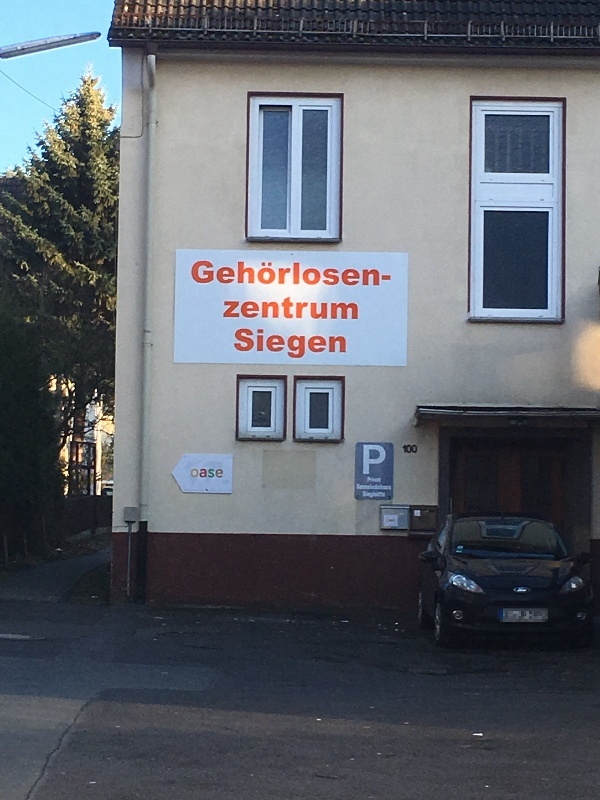text: (241, 329, 256, 361), (257, 329, 272, 361), (273, 329, 288, 361), (289, 329, 304, 361), (305, 329, 320, 361), (321, 329, 336, 361), (369, 445, 384, 475), (193, 260, 208, 288), (209, 260, 224, 288), (225, 260, 240, 288), (241, 260, 256, 288), (257, 260, 272, 288), (273, 260, 288, 288), (289, 260, 304, 288), (305, 260, 320, 288), (321, 260, 336, 288), (337, 260, 352, 288), (353, 260, 368, 288), (225, 294, 240, 322), (241, 294, 256, 322), (257, 294, 272, 322), (273, 294, 288, 322), (289, 294, 304, 322), (305, 294, 320, 322), (321, 294, 336, 322), (337, 294, 352, 322), (369, 260, 381, 288), (337, 329, 346, 361), (234, 329, 240, 361), (353, 294, 359, 322), (193, 468, 208, 479), (209, 468, 224, 479), (363, 445, 368, 475), (369, 490, 384, 499), (403, 444, 416, 454), (385, 272, 392, 286), (369, 484, 384, 490), (369, 477, 381, 483), (357, 484, 368, 490), (363, 490, 368, 499), (385, 484, 392, 490), (385, 445, 386, 475), (191, 260, 192, 288), (383, 272, 384, 286), (191, 468, 192, 479), (417, 444, 418, 454), (385, 490, 386, 499), (367, 477, 368, 483)
